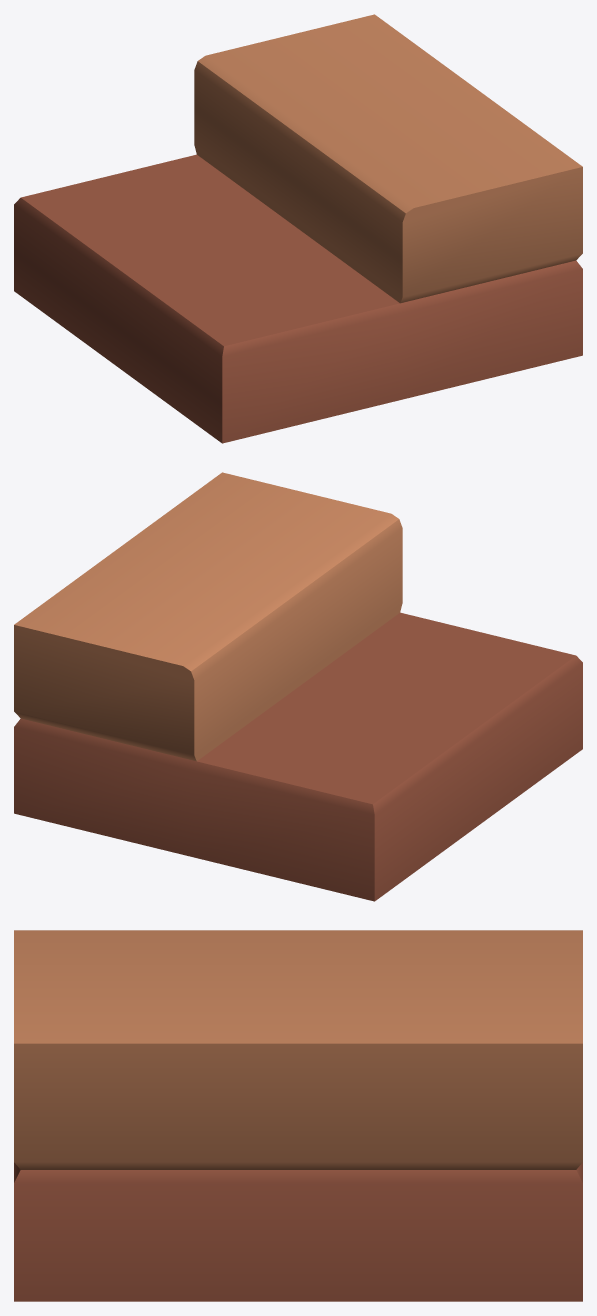
File: square_rock_waterStraight_empty.glb
3 renders of one model, top to bottom at view 1: azimuth 30°, elevation 25°; view 2: azimuth 150°, elevation 25°; view 3: azimuth 270°, elevation 25°, orthographic. The views are drawn at different scales.
Visible parts, largest first — view 1: square_rock_waterStraight_empty; view 2: square_rock_waterStraight_empty; view 3: square_rock_waterStraight_empty.
Part boxes in pixels (x1,y1,x2,y2): square_rock_waterStraight_empty: (14, 14, 582, 443); square_rock_waterStraight_empty: (14, 472, 582, 901); square_rock_waterStraight_empty: (14, 930, 582, 1301).
Bounding box in the file's own units: 3.82 × 1.91 × 3.82.
